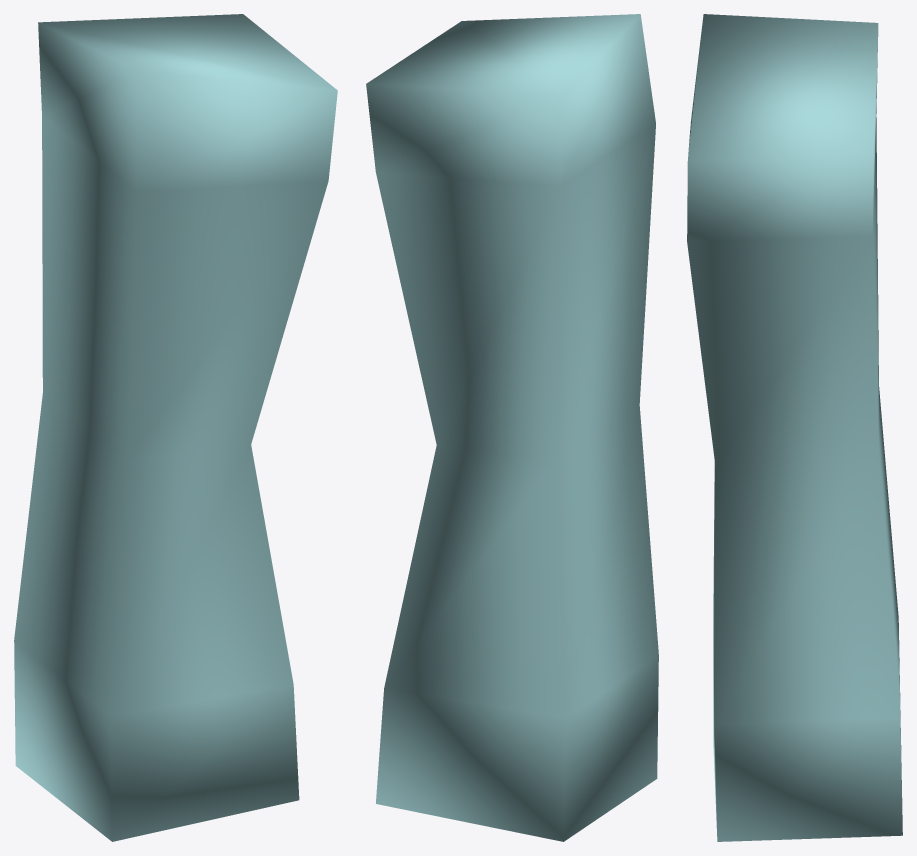
Rendered from Skelly_f_index.01.L.fbx.
3 views of the same model, side by side, from view 1: azimuth 30°, elevation 25°; view 2: azimuth 150°, elevation 25°; view 3: azimuth 270°, elevation 25° (orthographic). The views are drawn at different scales.
Parts seen in each view (by area): view 1: Skelly_f_index.01.L; view 2: Skelly_f_index.01.L; view 3: Skelly_f_index.01.L.
Part boxes in pixels (x1,y1,x2,y2): Skelly_f_index.01.L: (14, 14, 337, 841); Skelly_f_index.01.L: (366, 14, 658, 841); Skelly_f_index.01.L: (687, 14, 902, 841).
Size of the model in its own units: 1.65 by 5.67 by 1.48.
